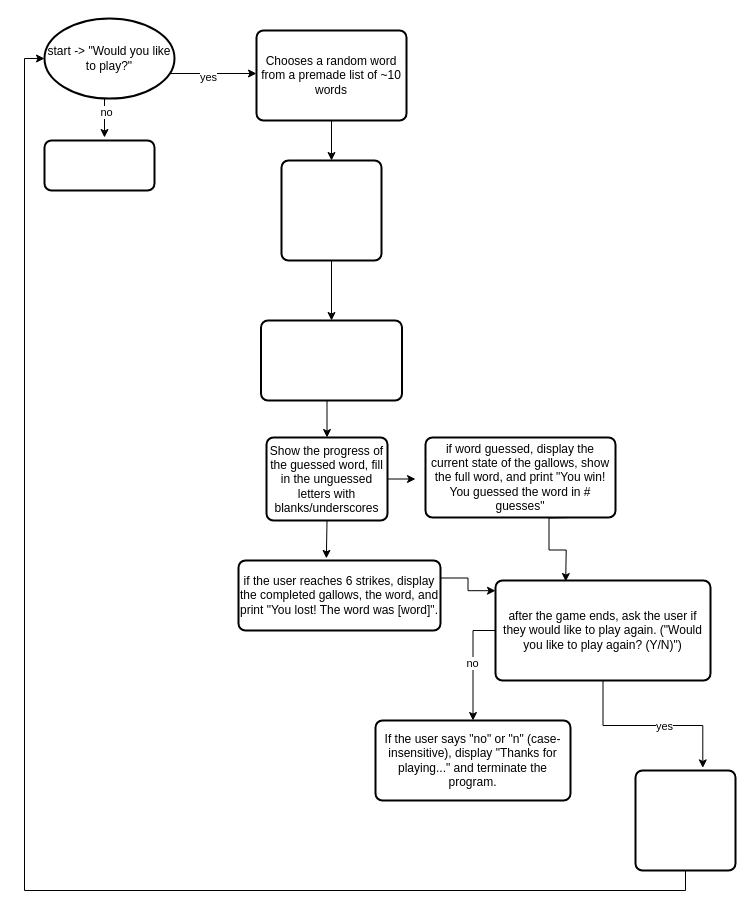
Some shapes in this 754 by 916 pixel diagram are drawn without their labels. Here are the shapes that lost their labels. From the top down, the centre of each, then its label:
(x=99, y=165): print("goodbye") Close Program
(x=331, y=210): ask the user for a letter
(x=331, y=360): Keep track of all guessed letters and the number of incorrect guesses
(x=685, y=820): if the user says "yes" or "y" (case-insensitive), restart the gameplay.
